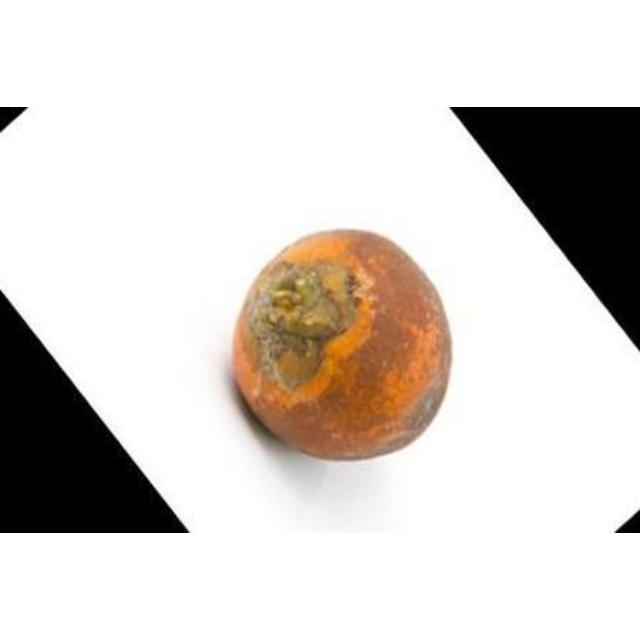good: (232, 231, 452, 463)
